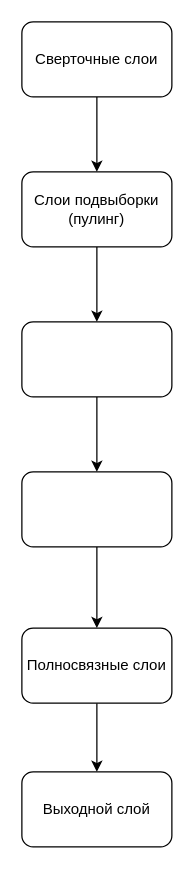
Some shapes in this 194 by 869 pixel diagram are drawn without their labels. Here are the shapes that lost their labels. From the top down, the centre of each, then its label:
At point 96,359: "Нормализация".
At point 96,509: "Слои активации".
